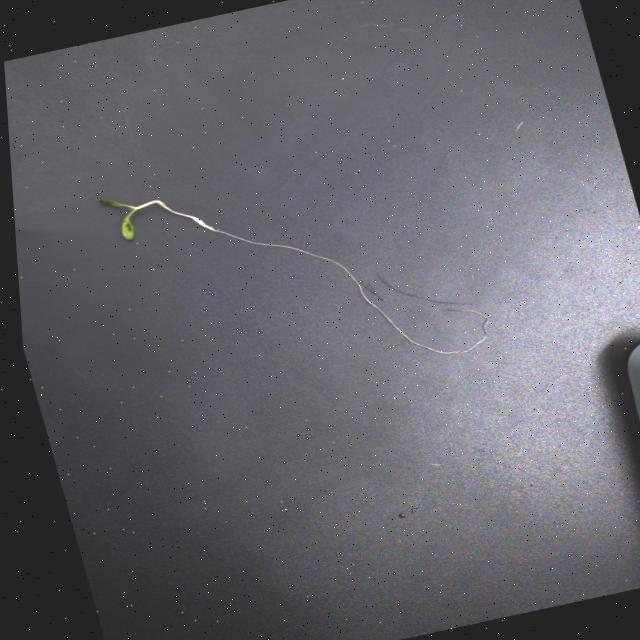leaf: (121, 215, 134, 239), (97, 199, 126, 206)
root: (164, 205, 488, 353)
stem: (126, 199, 164, 217)
